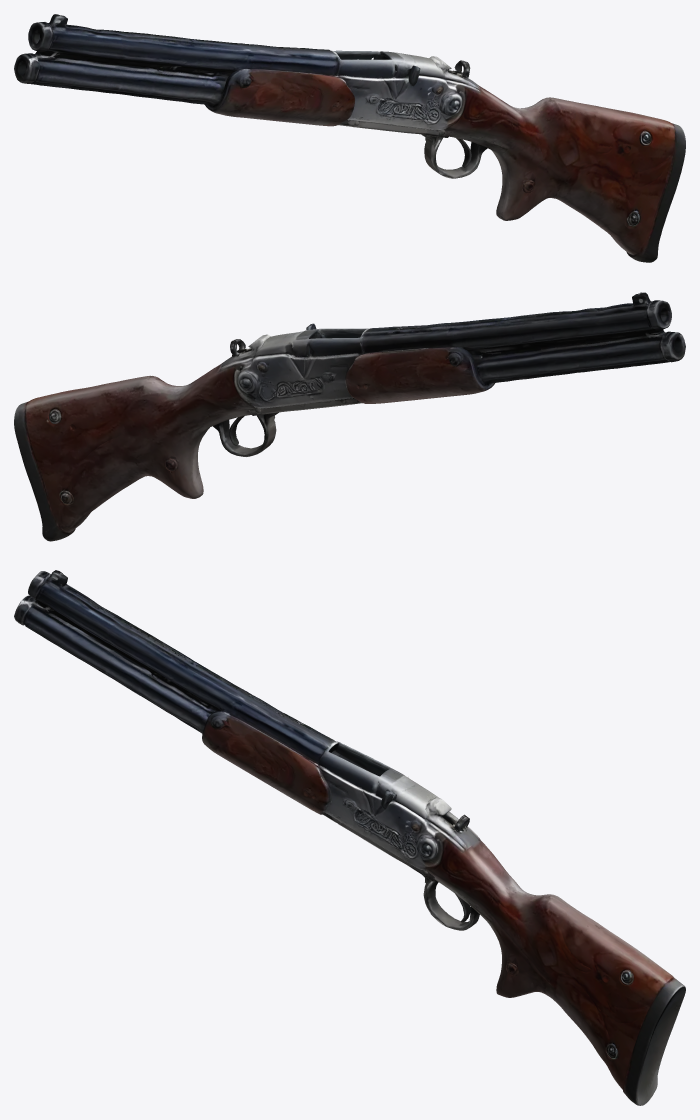
Rendered from rn_twin.glb.
3 renders of one model, top to bottom at view 1: azimuth 30°, elevation 25°; view 2: azimuth 150°, elevation 25°; view 3: azimuth 330°, elevation 25°, orthographic.
Visible parts, largest first — view 1: tripo_node_bac1995b-87b6-49fd-b964-f79b2edba872; view 2: tripo_node_bac1995b-87b6-49fd-b964-f79b2edba872; view 3: tripo_node_bac1995b-87b6-49fd-b964-f79b2edba872.
Part boxes in pixels (x1,y1,x2,y2): tripo_node_bac1995b-87b6-49fd-b964-f79b2edba872: (14, 14, 685, 262); tripo_node_bac1995b-87b6-49fd-b964-f79b2edba872: (14, 292, 685, 541); tripo_node_bac1995b-87b6-49fd-b964-f79b2edba872: (14, 570, 685, 1105).
Bounding box in the file's own units: 0.9801 × 0.551 × 0.0826.
1 material, 1 textured.
